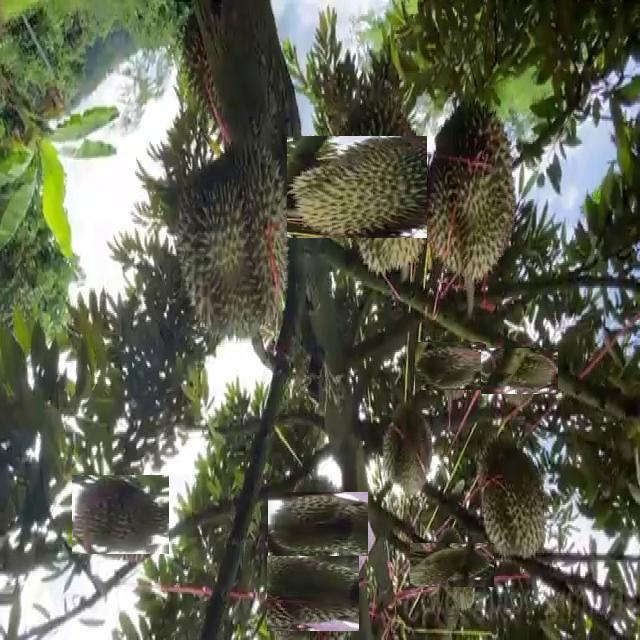durian: (175, 136, 291, 346), (307, 116, 450, 258), (427, 95, 520, 282), (477, 436, 550, 563), (77, 470, 165, 559), (271, 552, 355, 636), (277, 482, 359, 565), (380, 396, 437, 496), (420, 533, 485, 597), (488, 340, 550, 402), (420, 336, 480, 396)
